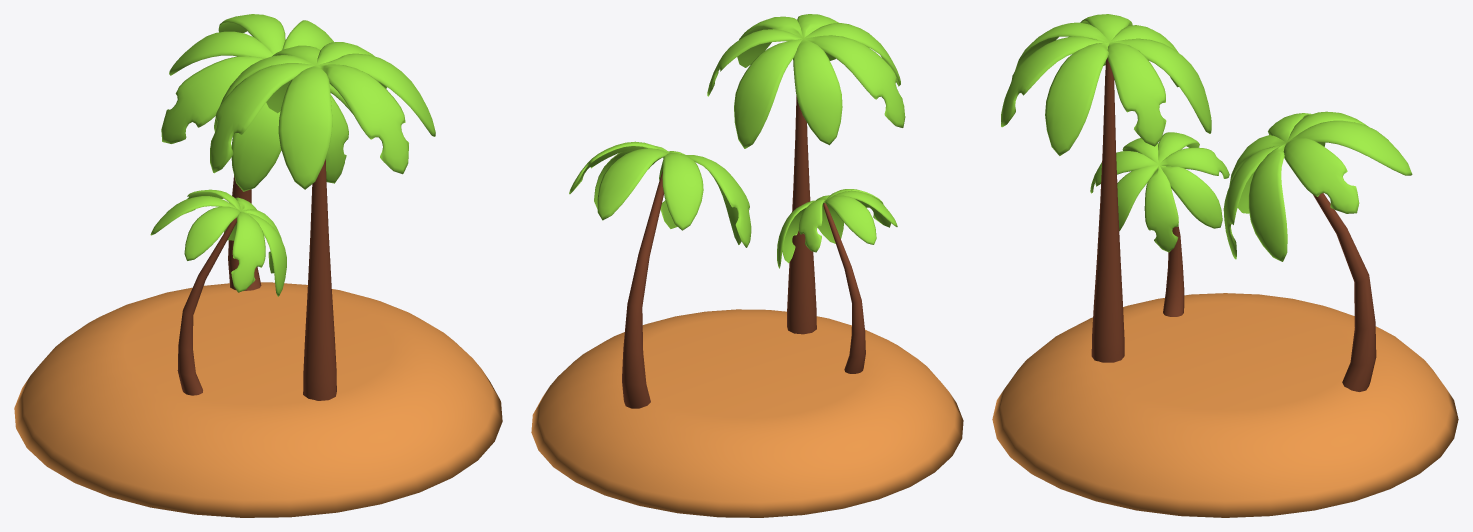
Rendered from Island.fbx.
3 views of the same model, side by side, from view 1: azimuth 30°, elevation 25°; view 2: azimuth 150°, elevation 25°; view 3: azimuth 270°, elevation 25° (orthographic). The views are drawn at different scales.
Visible parts, largest first — view 1: Cylinder; view 2: Cylinder; view 3: Cylinder.
Part boxes in pixels (box(x1,y1,x2,y2)): Cylinder: box(14, 14, 502, 517); Cylinder: box(531, 14, 963, 517); Cylinder: box(992, 14, 1458, 517).
Bounding box in the file's own units: 31.67 × 28.69 × 31.67.
